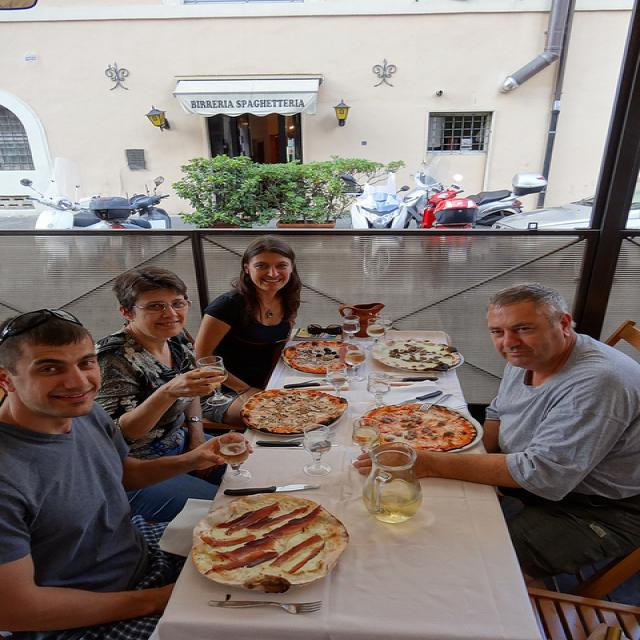motor: (403, 159, 547, 229), (81, 165, 169, 230), (14, 176, 92, 231), (341, 172, 409, 229), (422, 173, 478, 230)
